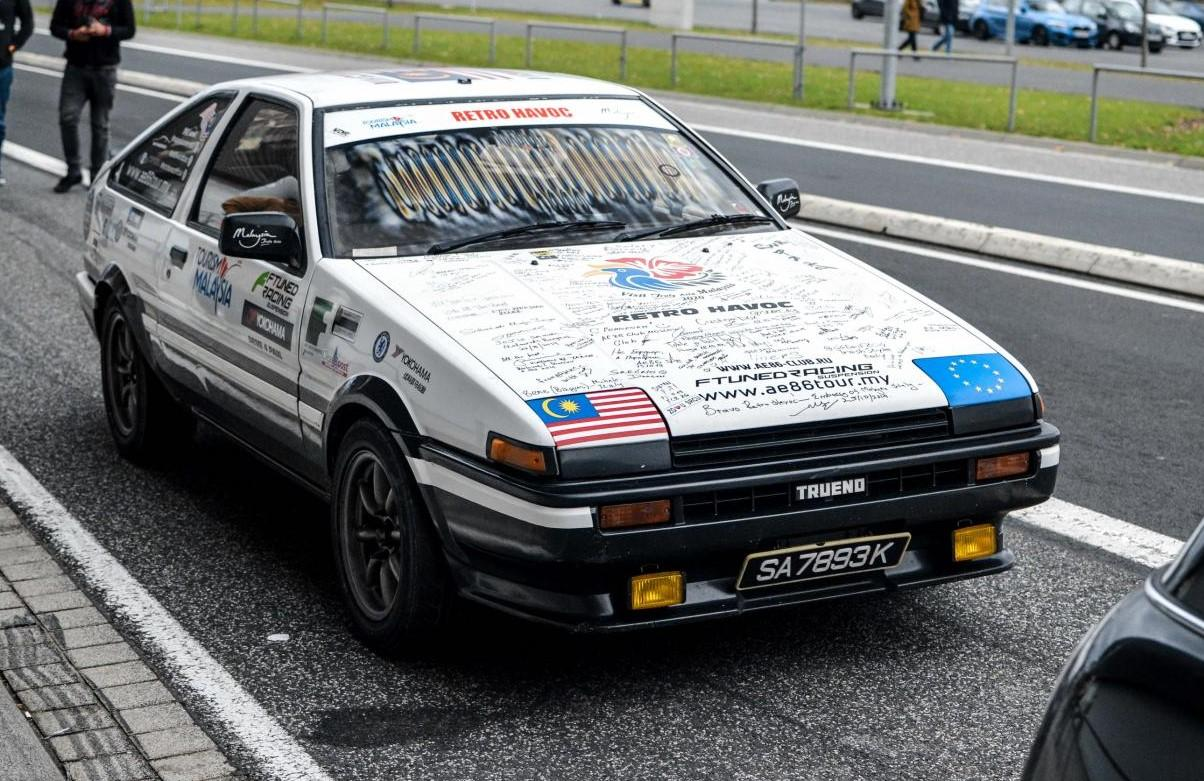License Plate: (741, 536, 909, 589)
